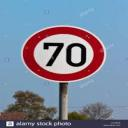speed_limit_70: (21, 26, 105, 84)
